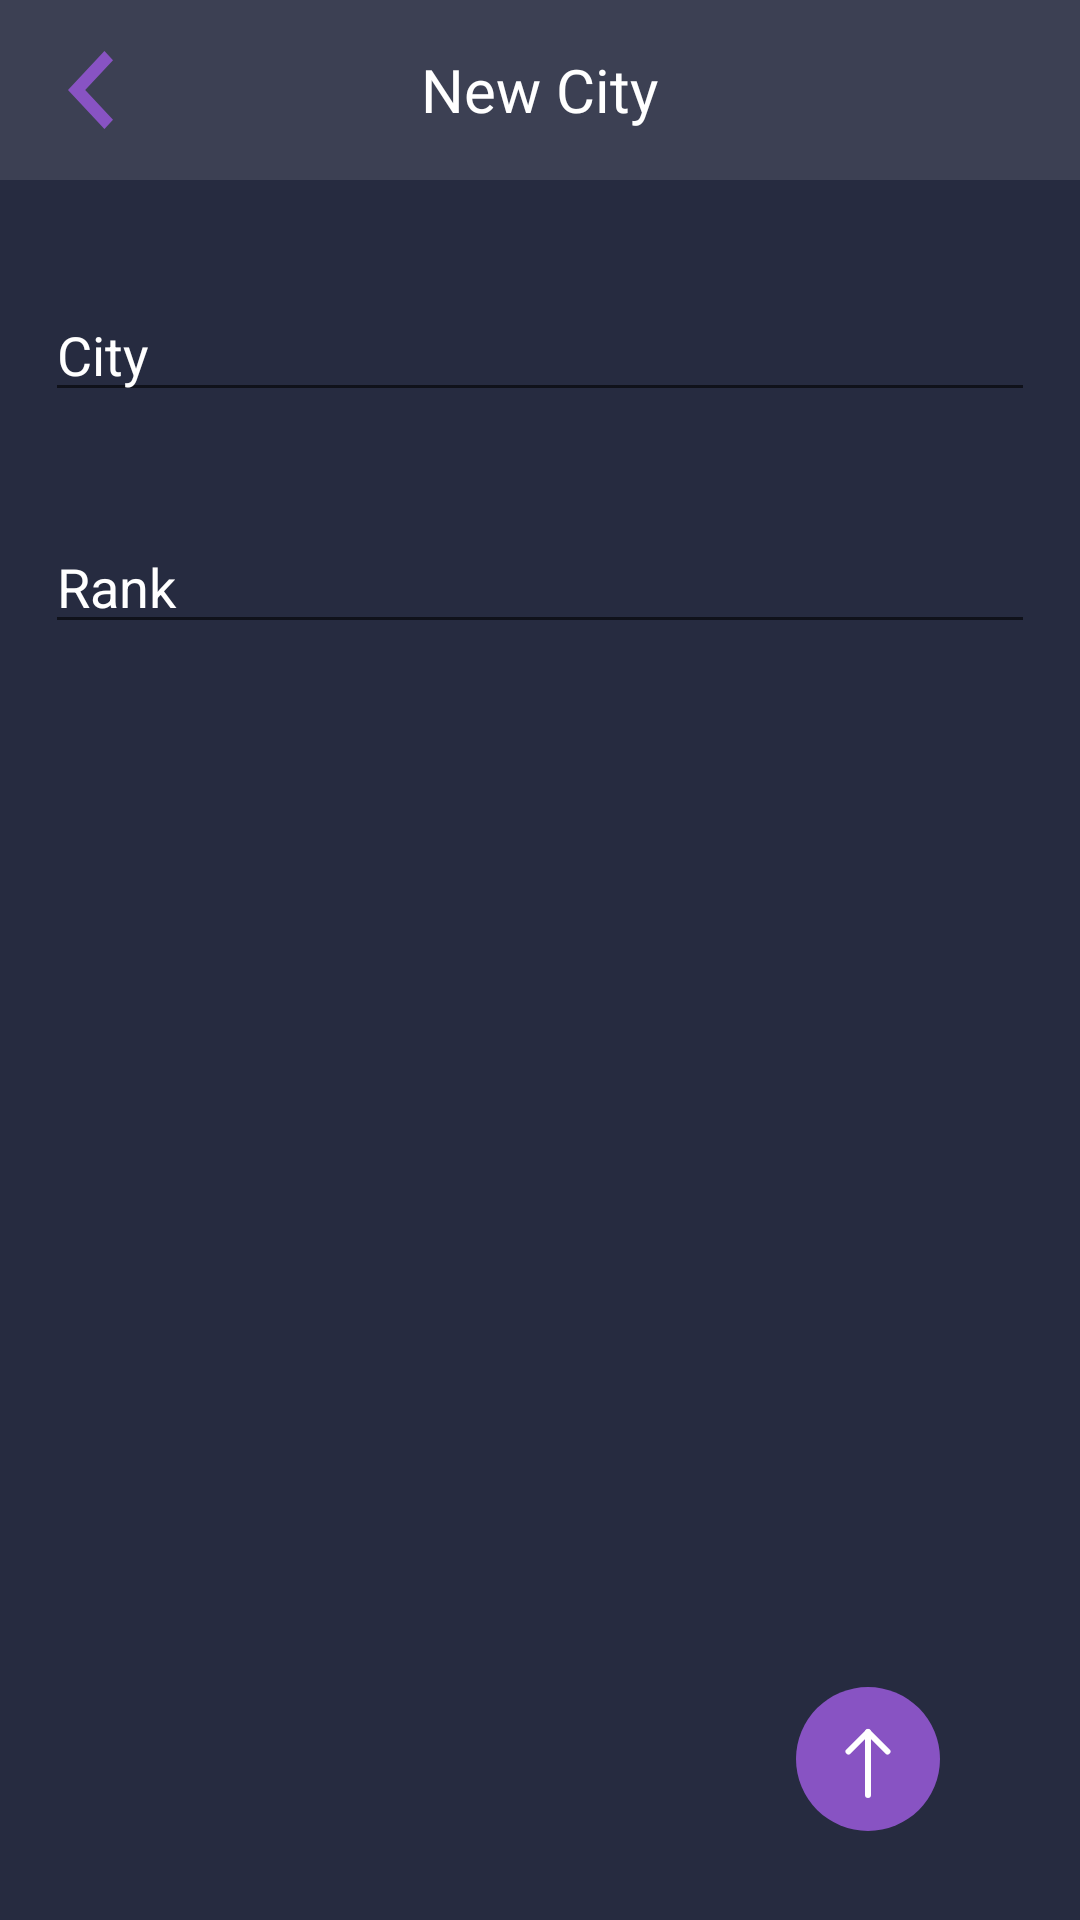

Point at icon controls on the screen. Image size 1080*1920, points as (x=x, y=y).
chevron: (x=90, y=90)
send: (x=868, y=1759)
